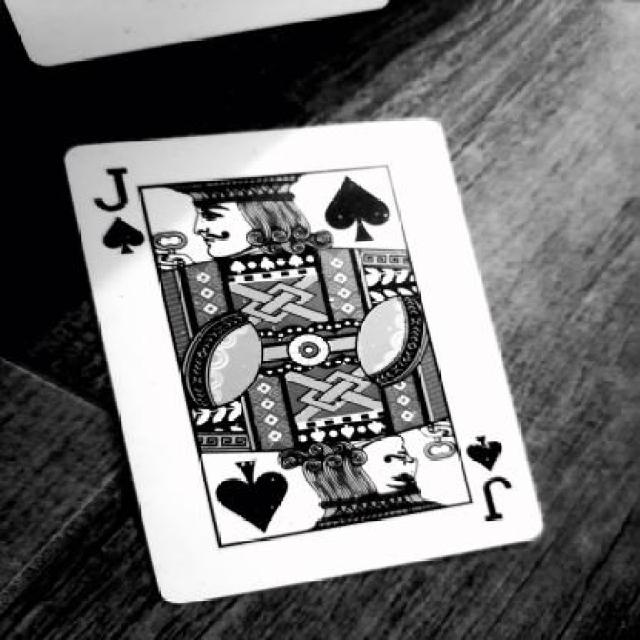JS: (459, 428, 544, 548), (90, 148, 159, 261)
